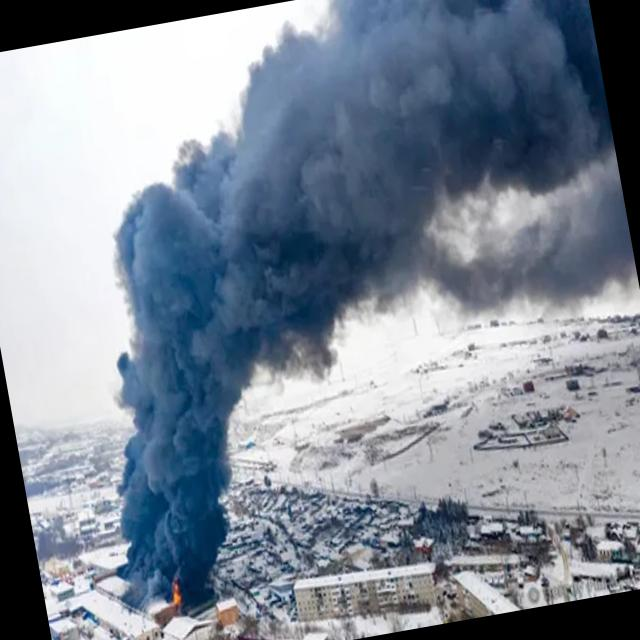Smoke: (33, 0, 640, 610)
